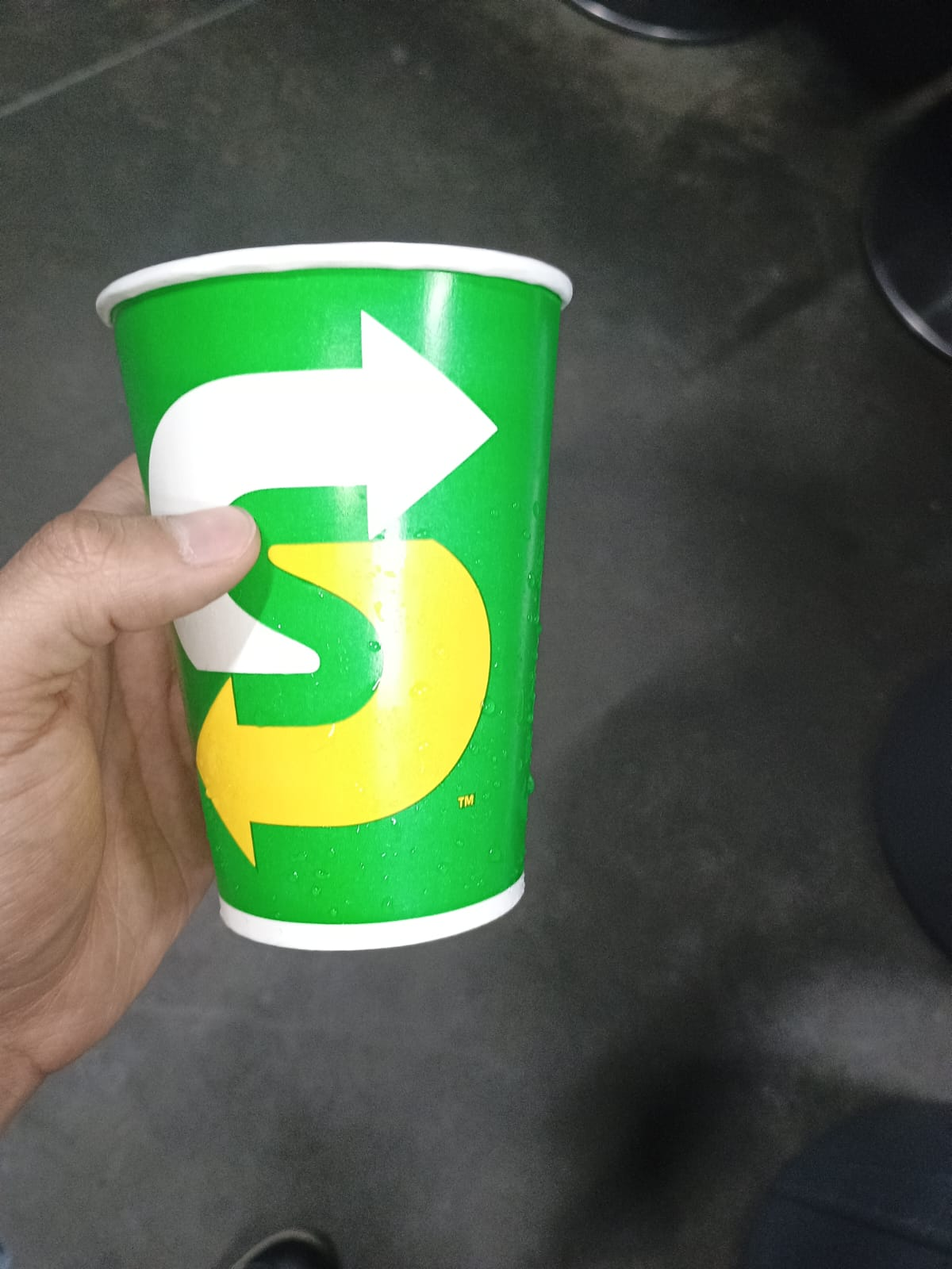Carton: (94, 239, 575, 952)
